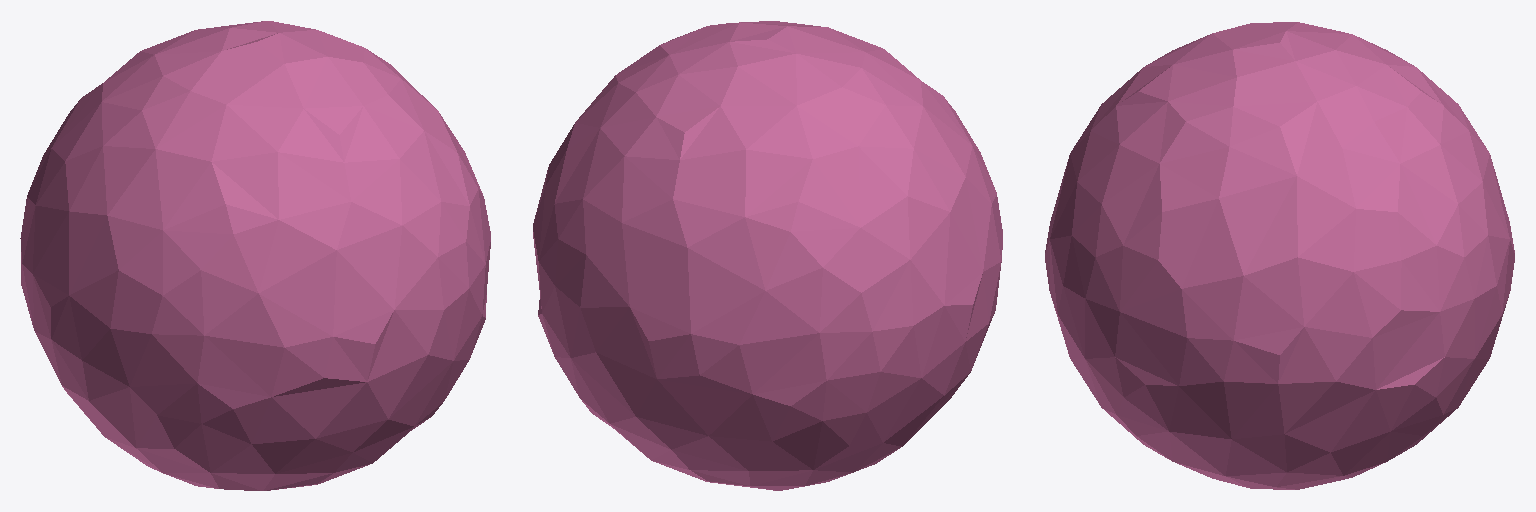
robot.urdf — mug:
<?xml version="1.0"?>
<robot name="mug">
  <link name="base"/>
  <link name="base1"/>
  <link name="base2"/>
  <link name="base3"/>
  <link name="base4"/>
  <link name="base5"/>
  <joint name="x_joint" type="prismatic">
    <origin xyz="0 0 0" rpy="0 0 0"/>
    <parent link="base"/>
    <child link="base1"/>
    <axis xyz="1 0 0"/>
    <limit effort="1" lower="-2" upper="2.0" velocity="1"/>
  </joint>

  <joint name="y_joint" type="prismatic">
    <origin xyz="0 0 0" rpy="0 0 0"/>
    <parent link="base1"/>
    <child link="base2"/>
    <axis xyz="0 1 0"/>
    <limit effort="1" lower="-2.0" upper="2.0" velocity="1"/>
  </joint>

  <joint name="z_joint" type="prismatic">
    <origin xyz="0 0 0" rpy="0 0 0"/>
    <parent link="base2"/>
    <child link="base3"/>
    <axis xyz="0 0 1"/>
    <limit effort="12" lower="-2.8973" upper="2.8973" velocity="2.6100"/>
  </joint>
  <joint name="rx_joint" type="revolute">
    <origin xyz="0 0 0" rpy="0 0 0"/>
    <parent link="base3"/>
    <child link="base4"/>
    <axis xyz="1 0 0"/>
    <limit effort="12" lower="-2.8973" upper="2.8973" velocity="2.6100"/>
  </joint>
  <joint name="ry_joint" type="revolute">
    <origin xyz="0 0 0" rpy="0 0 0"/>
    <parent link="base4"/>
    <child link="base5"/>
    <axis xyz="0 1 0"/>
    <limit effort="12" lower="-2.8973" upper="2.8973" velocity="2.6100"/>
  </joint>
  <joint name="rz_joint" type="revolute">
    <origin xyz="0 0 0" rpy="0 0 0"/>
    <parent link="base5"/>
    <child link="mug"/>
    <axis xyz="0 0 1"/>
    <limit effort="12" lower="-2.8973" upper="2.8973" velocity="2.6100"/>
  </joint>

  <link name="mug">
    <visual>
      <origin xyz="0.0 0.0 0.0"/>
      <geometry>
        <mesh filename="sphere.obj" scale=".005 .005 .005"/>
      </geometry>
    </visual>
    <collision>
      <origin xyz="0.0 0.0 0.0"/>
      <geometry>
        <mesh filename="sphere.obj" scale=".005 .005 .005"/>
      </geometry>
    </collision>
    <inertial>
      <mass value="0.0"/>
      <inertia ixx="0.0001" ixy="0.0" ixz="0.0" iyy="0.0001" iyz="0.0" izz="0.0001"/>
    </inertial>
  </link>
</robot>

--- What the picture shows (computed from the rendered views, not written in the file) ---
3 views of the same robot in one strip: view 1: azimuth 30°, elevation 25°; view 2: azimuth 150°, elevation 25°; view 3: azimuth 270°, elevation 25° (orthographic).
Model mug with 7 links and 6 joints (3 revolute, 3 prismatic), rooted at base, posed every joint at zero.
Visible links, largest first — view 1: mug; view 2: mug; view 3: mug.
Boxes of the visible links, x1=… form: mug: x1=20, y1=21, x2=490, y2=490; mug: x1=533, y1=21, x2=1002, y2=490; mug: x1=1045, y1=22, x2=1514, y2=489.
Size in the robot's own frame: 0.06 by 0.06 by 0.06 metres.
1 mesh visuals loaded from 1 distinct referenced files (1 OBJ).